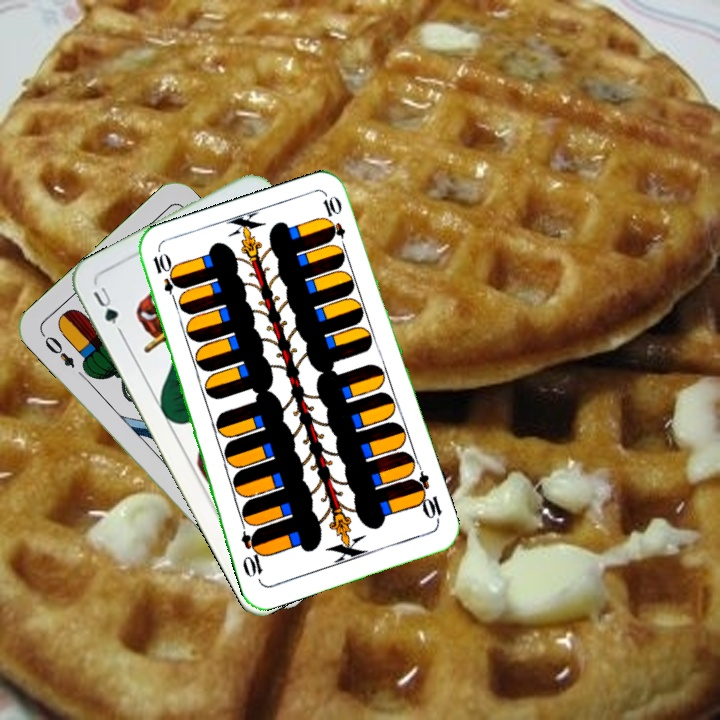E10: (407, 468, 445, 526), (148, 249, 182, 307)
EO: (37, 329, 78, 371)
GU: (88, 282, 124, 336)
